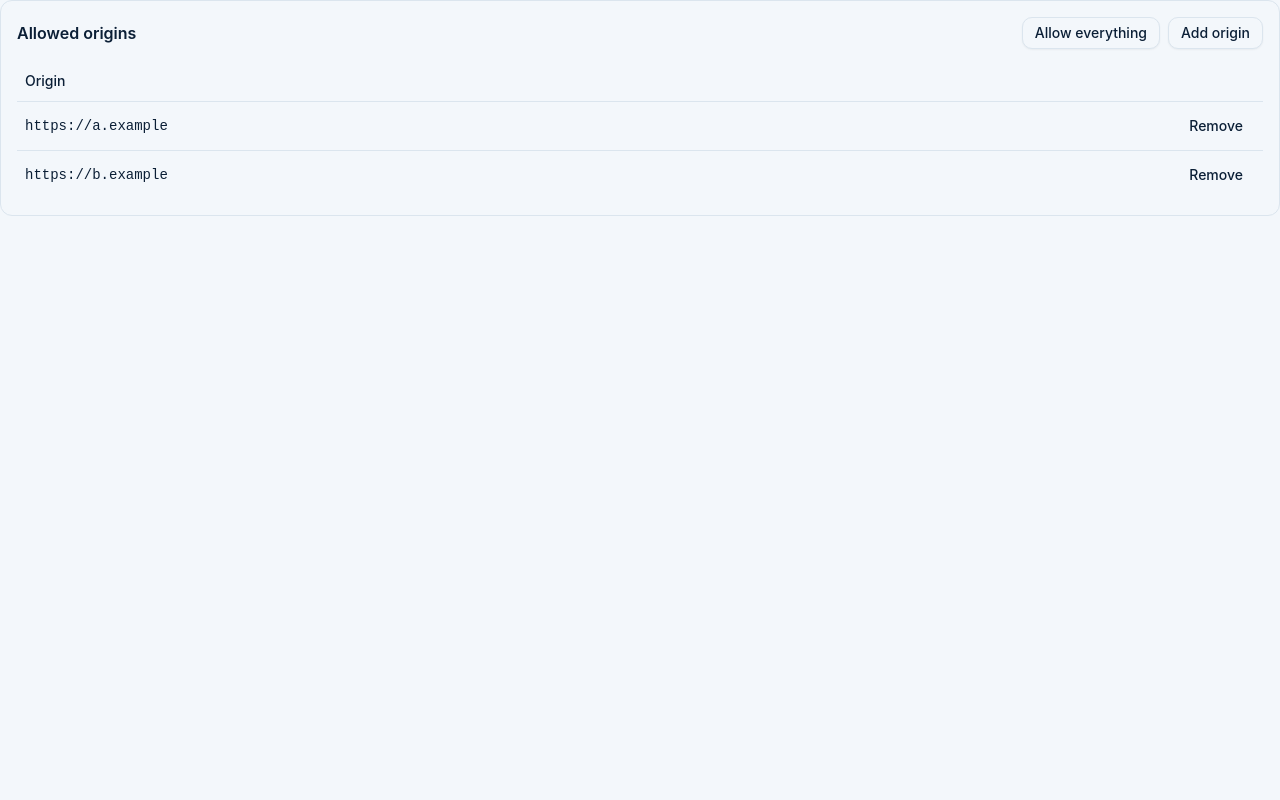
OriginsSection › adds an origin to the end of the list, trimmed
Click the button "Add origin" at (1216, 33), box [1168,17,1263,49]
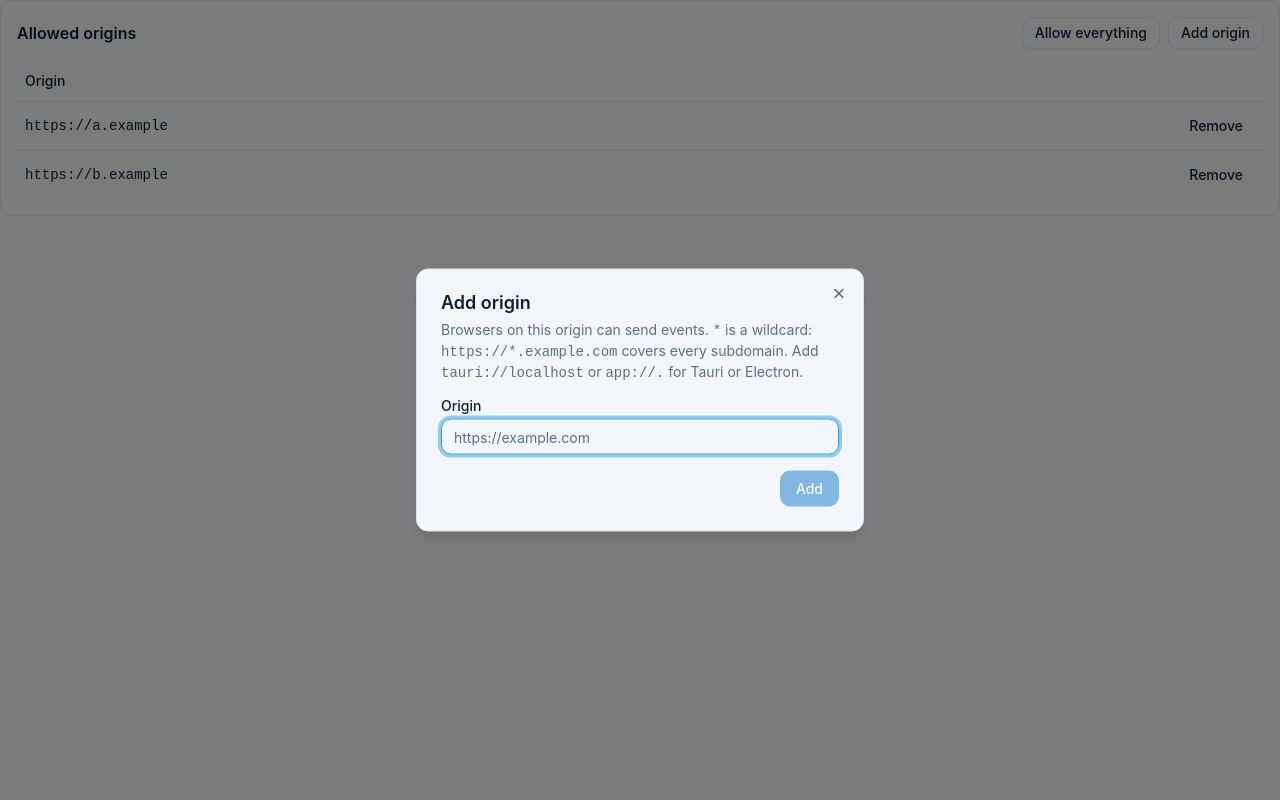
Type " https://c.example " into the field labelled "Origin" at (640, 436), box [441,418,839,454]
Then press Enter
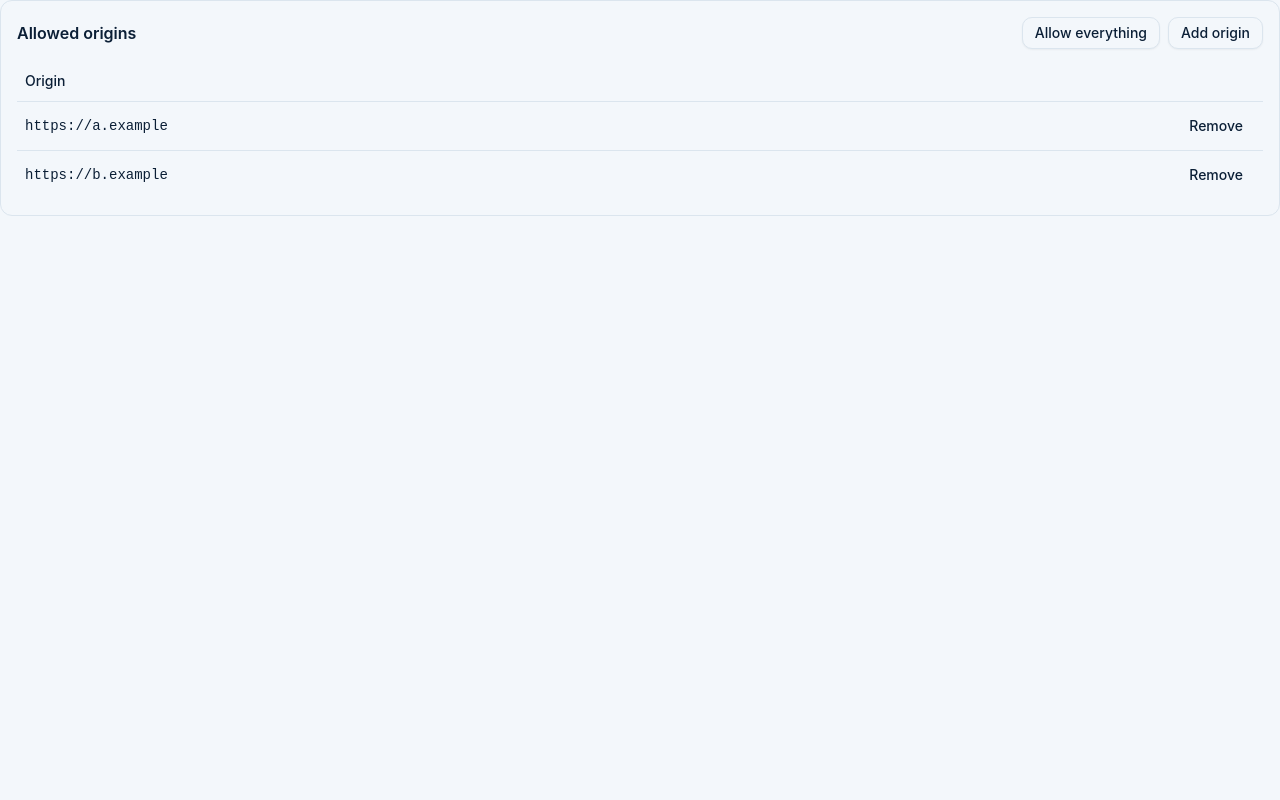
Check: the dialog is gone
